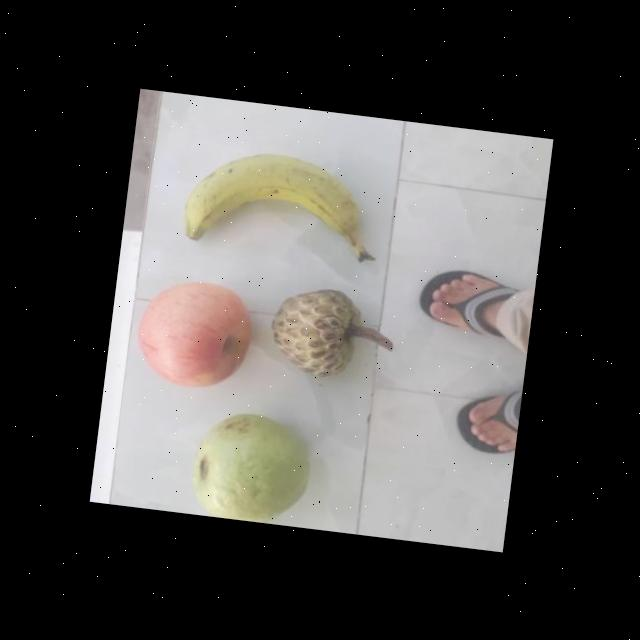Sakya fruit: (262, 283, 366, 385)
apple: (130, 272, 256, 399)
banana: (180, 148, 367, 264)
guava: (186, 408, 313, 526)
